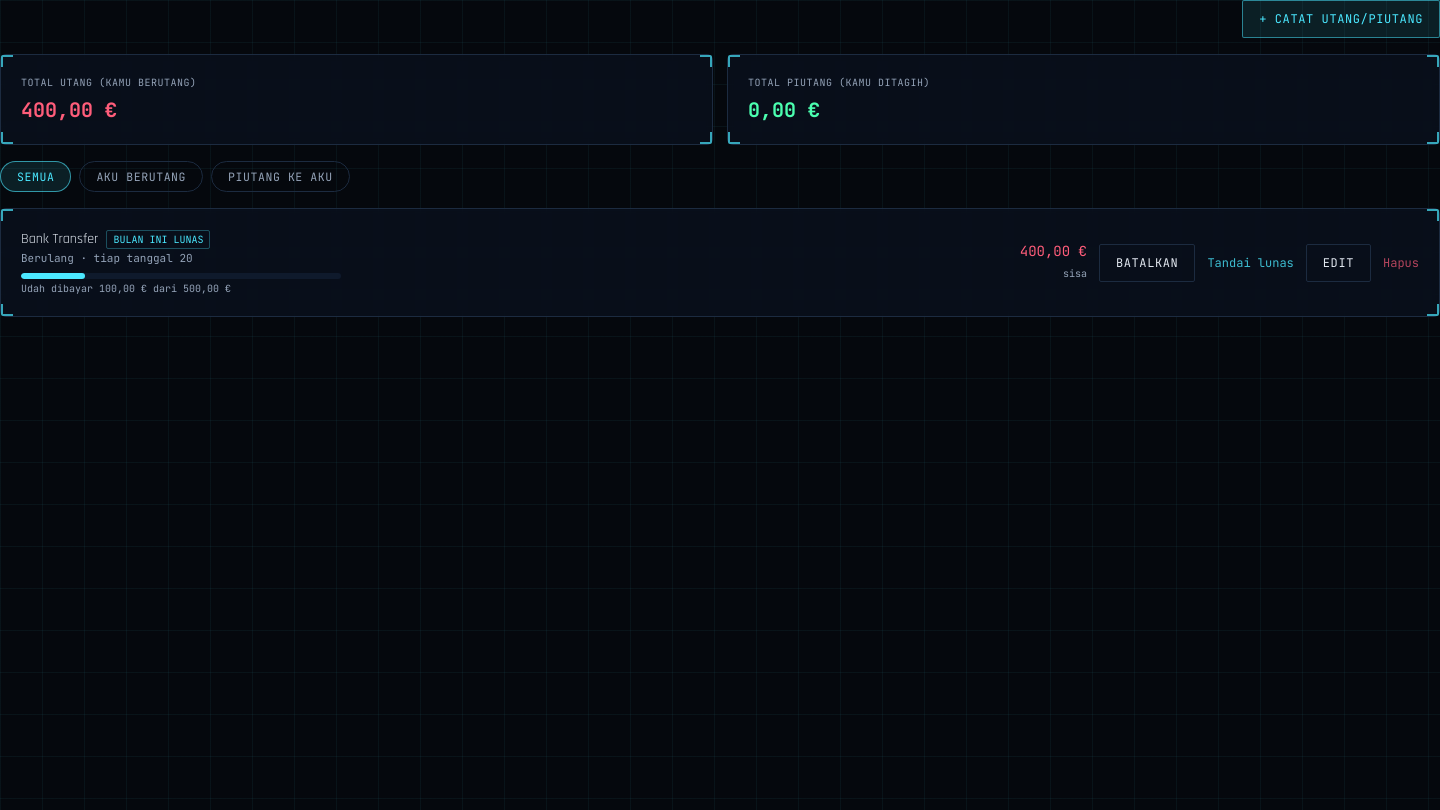
Test: DebtsTab › undoing a payment deletes its transaction and removes the cycle tag
The width and height of the screenshot is (1440, 810).
Click the button "Batalkan". click: (1147, 262)
box: 1099,244 -> 1195,282
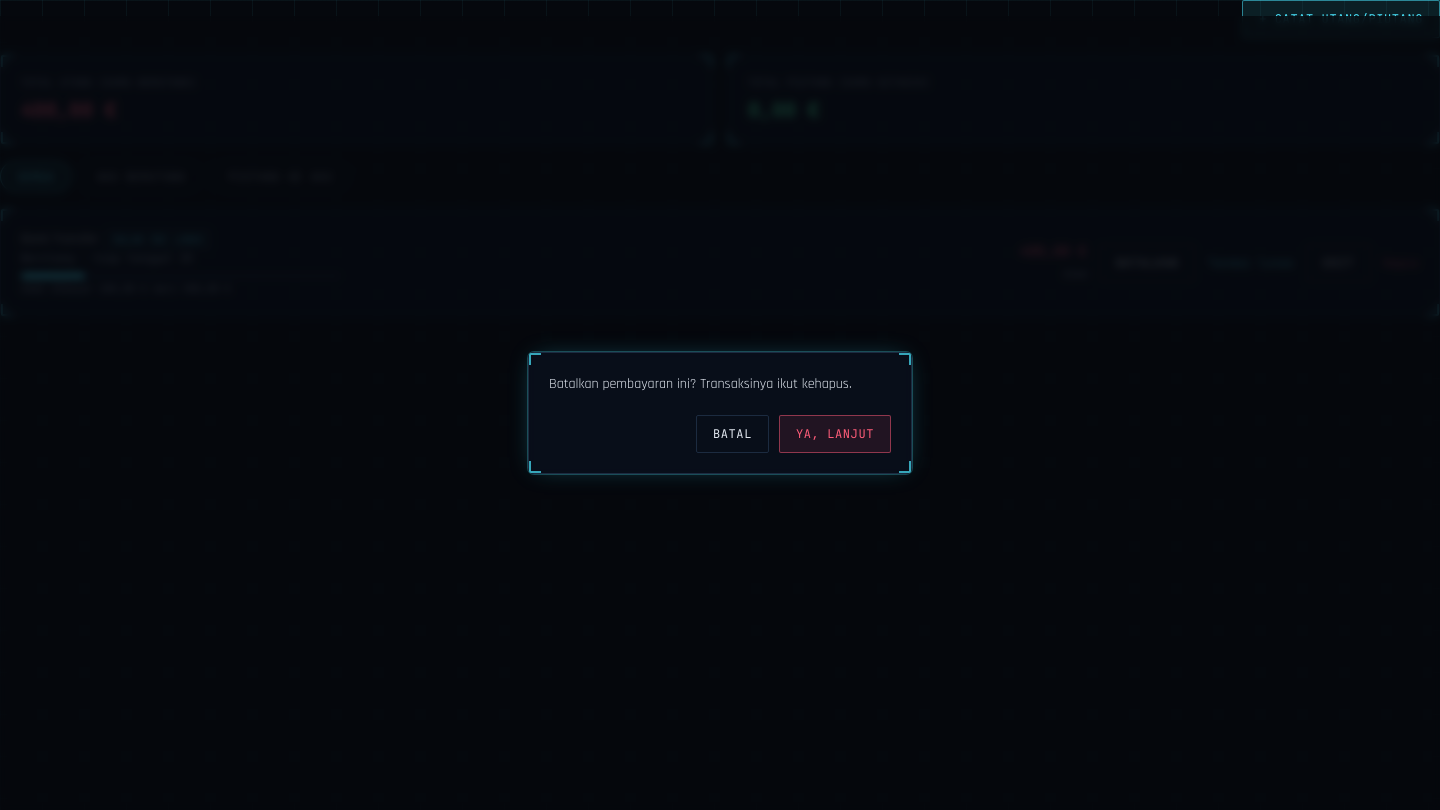
Click the button "Ya, lanjut". click: (835, 434)
box: 779,415 -> 891,453
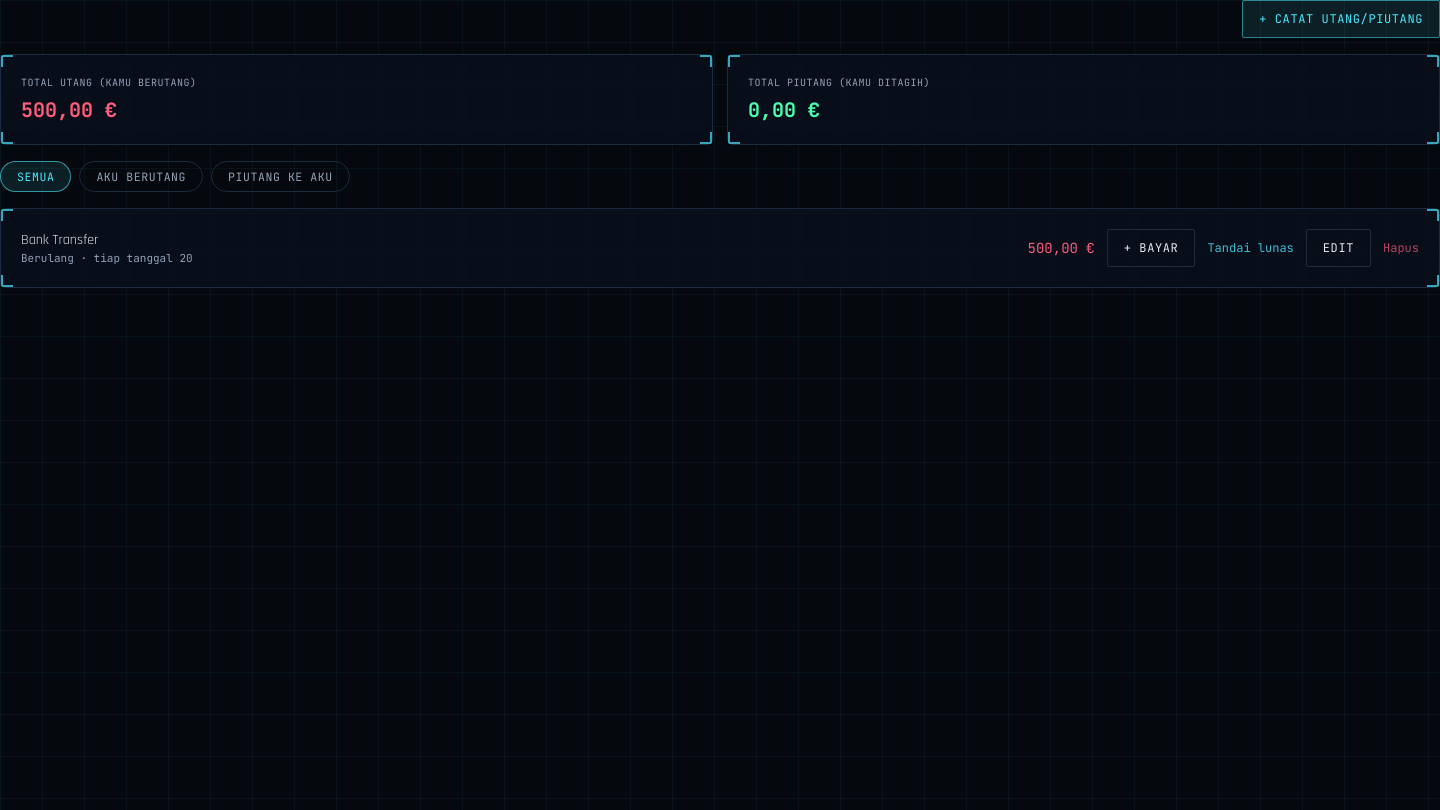
Check: the text "BULAN INI LUNAS" is not shown
Check: the button "+ Bayar" is shown, box 1107,229 -> 1195,267
